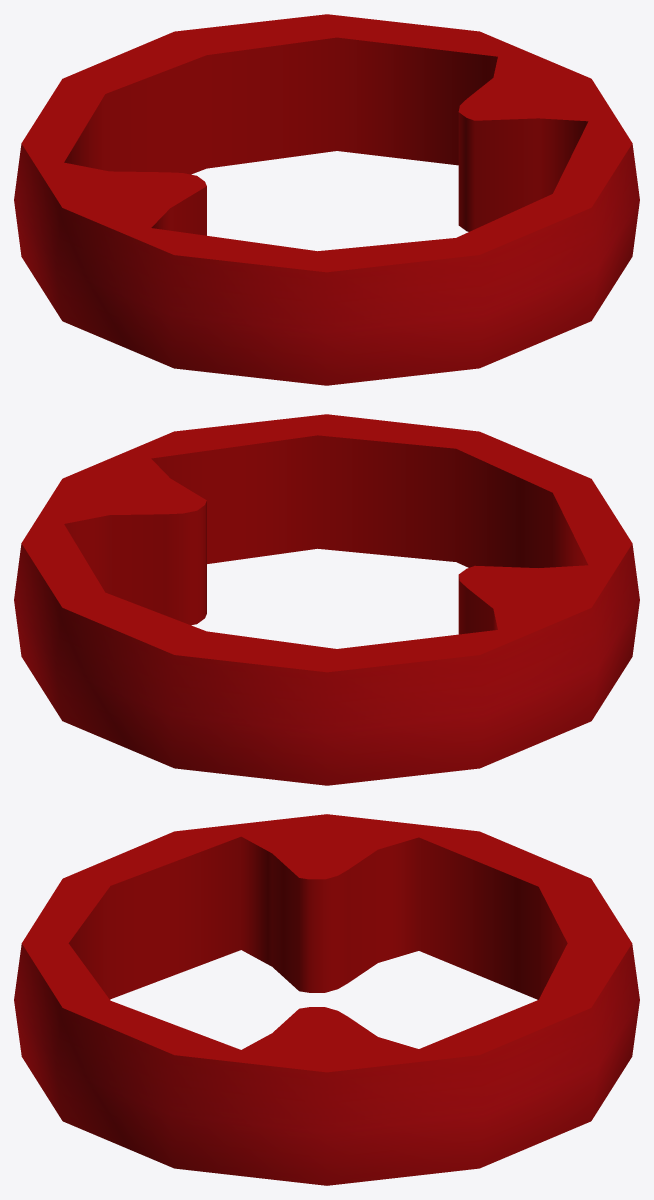
The model's file is Hot_peper_red_slice.fbx.
3 views of the same model, one above another, from view 1: azimuth 30°, elevation 25°; view 2: azimuth 150°, elevation 25°; view 3: azimuth 270°, elevation 25° (orthographic).
Visible parts, largest first — view 1: Hot_peper_red_slice; view 2: Hot_peper_red_slice; view 3: Hot_peper_red_slice.
Boxes of the visible parts, x1,y1,x2,y2 form: Hot_peper_red_slice: [14, 14, 639, 385]; Hot_peper_red_slice: [14, 414, 639, 785]; Hot_peper_red_slice: [14, 814, 639, 1185].
Bounding box in the file's own units: 36.8 × 36.8 × 7.36.
